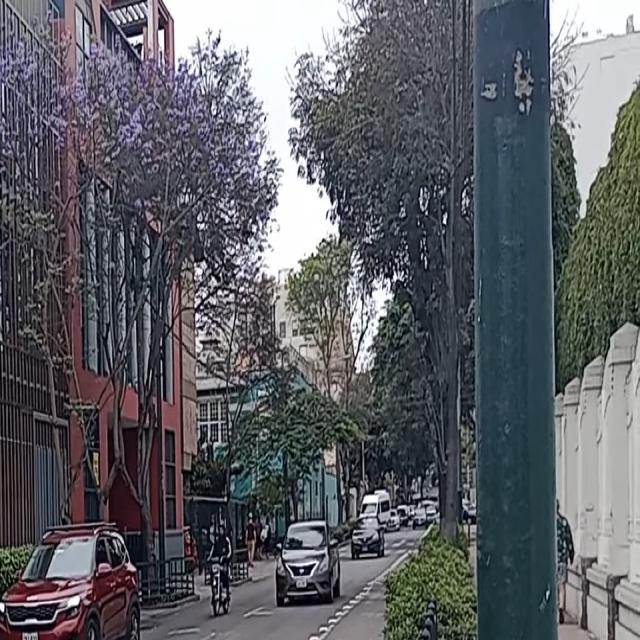motorcycle: (204, 548, 232, 614)
